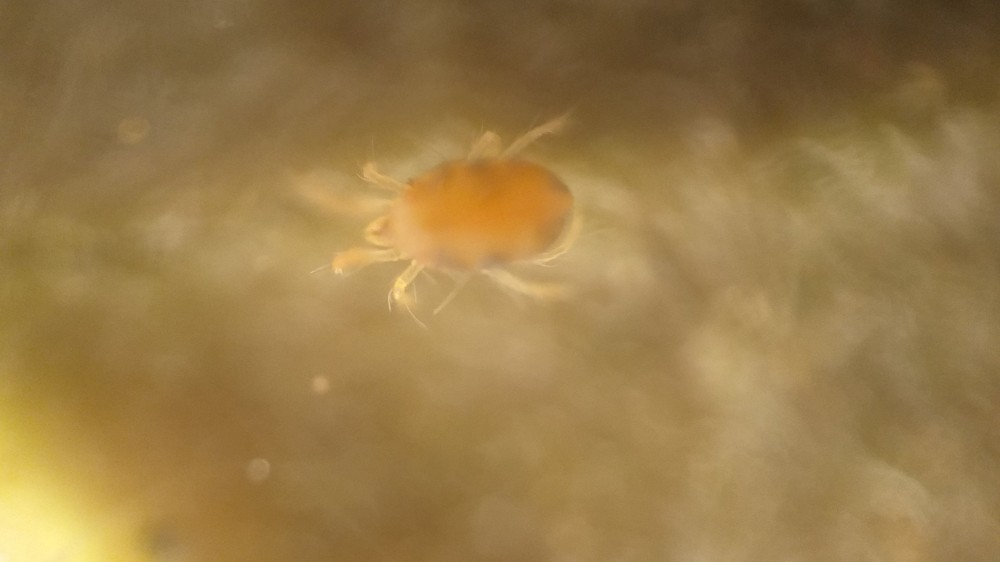Aracnido Rojo: (307, 87, 632, 341)
